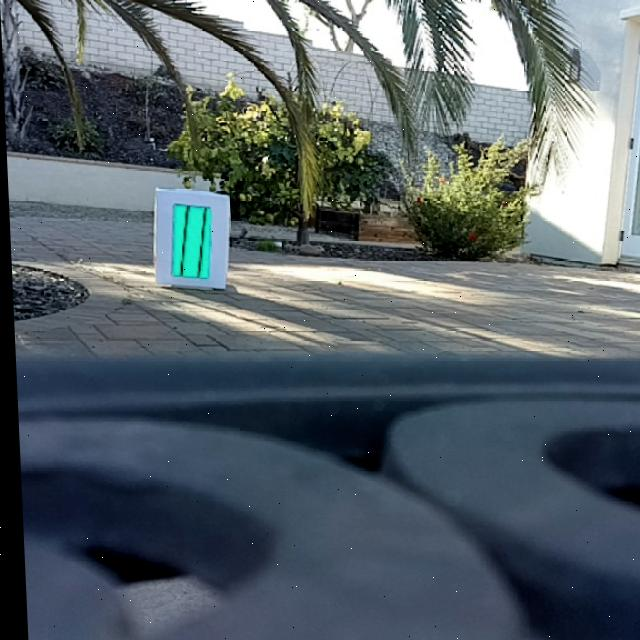led: (168, 204, 211, 281)
